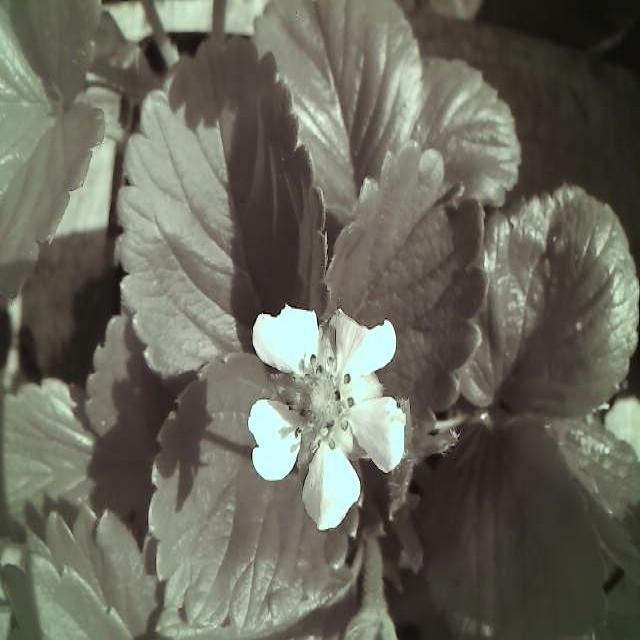flower: (244, 302, 411, 537)
